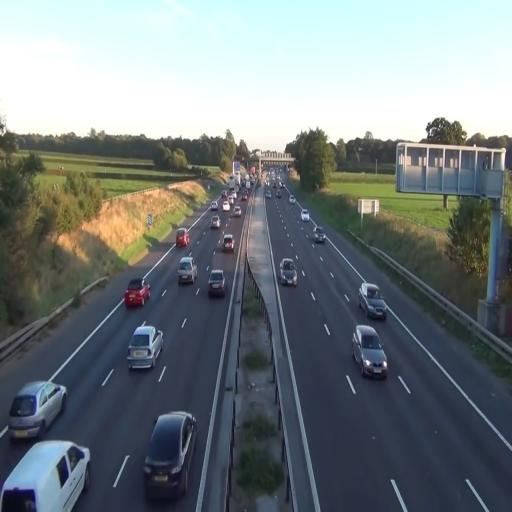vehicle: (1, 438, 90, 510), (0, 441, 90, 511), (143, 410, 198, 502), (144, 412, 196, 499), (8, 380, 67, 442), (8, 382, 67, 439), (352, 324, 389, 378), (126, 323, 164, 372), (352, 325, 387, 378), (127, 326, 162, 369), (358, 281, 386, 319), (359, 284, 386, 319), (363, 286, 387, 318), (124, 281, 150, 309), (125, 279, 150, 307), (279, 257, 298, 286), (177, 257, 195, 286), (208, 269, 226, 298), (208, 270, 227, 297), (178, 257, 197, 283), (366, 297, 386, 320), (280, 259, 297, 285), (220, 232, 235, 252), (176, 228, 189, 247), (210, 212, 222, 232), (311, 229, 325, 244), (222, 234, 234, 251), (314, 227, 325, 243), (316, 231, 326, 243), (210, 216, 220, 228), (301, 210, 309, 221), (222, 200, 230, 211), (241, 190, 249, 200), (233, 206, 241, 216), (231, 188, 238, 199), (235, 173, 241, 185), (229, 177, 235, 189), (211, 202, 218, 211), (289, 195, 295, 204), (228, 196, 234, 204), (276, 190, 281, 198), (246, 181, 251, 189), (266, 190, 271, 198), (222, 190, 227, 198), (245, 173, 249, 182), (273, 181, 277, 188), (280, 182, 284, 188), (250, 178, 254, 184), (241, 181, 245, 187), (235, 187, 239, 193)
